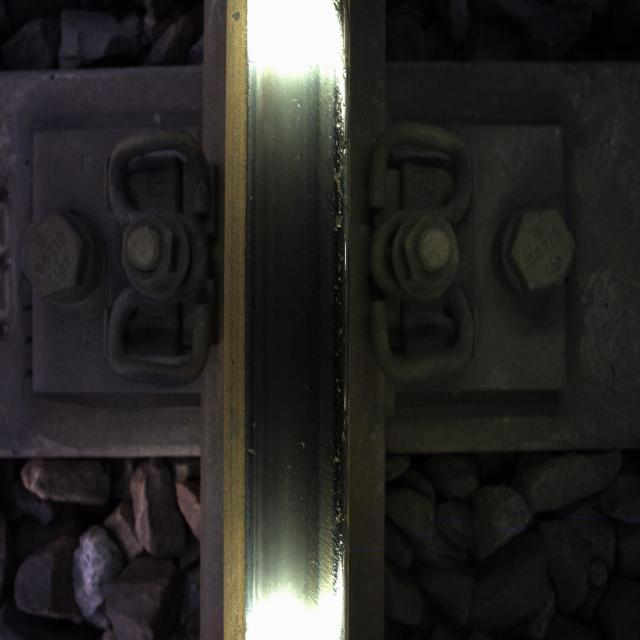scar: (275, 59, 353, 589)
